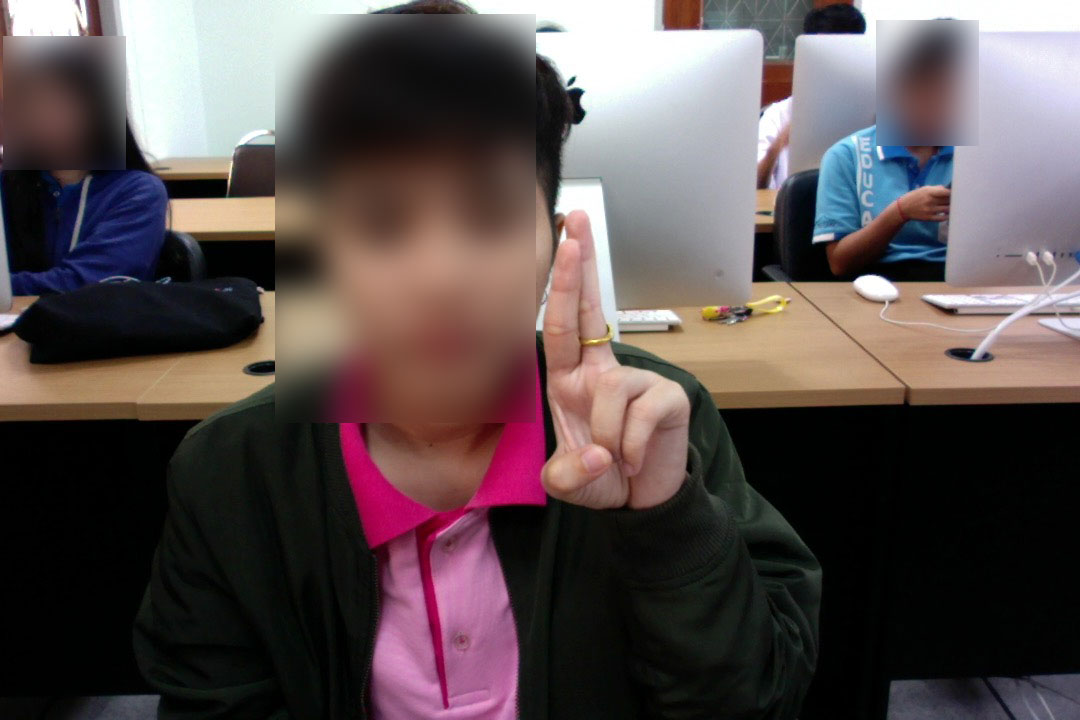rao: (535, 209, 705, 514)
